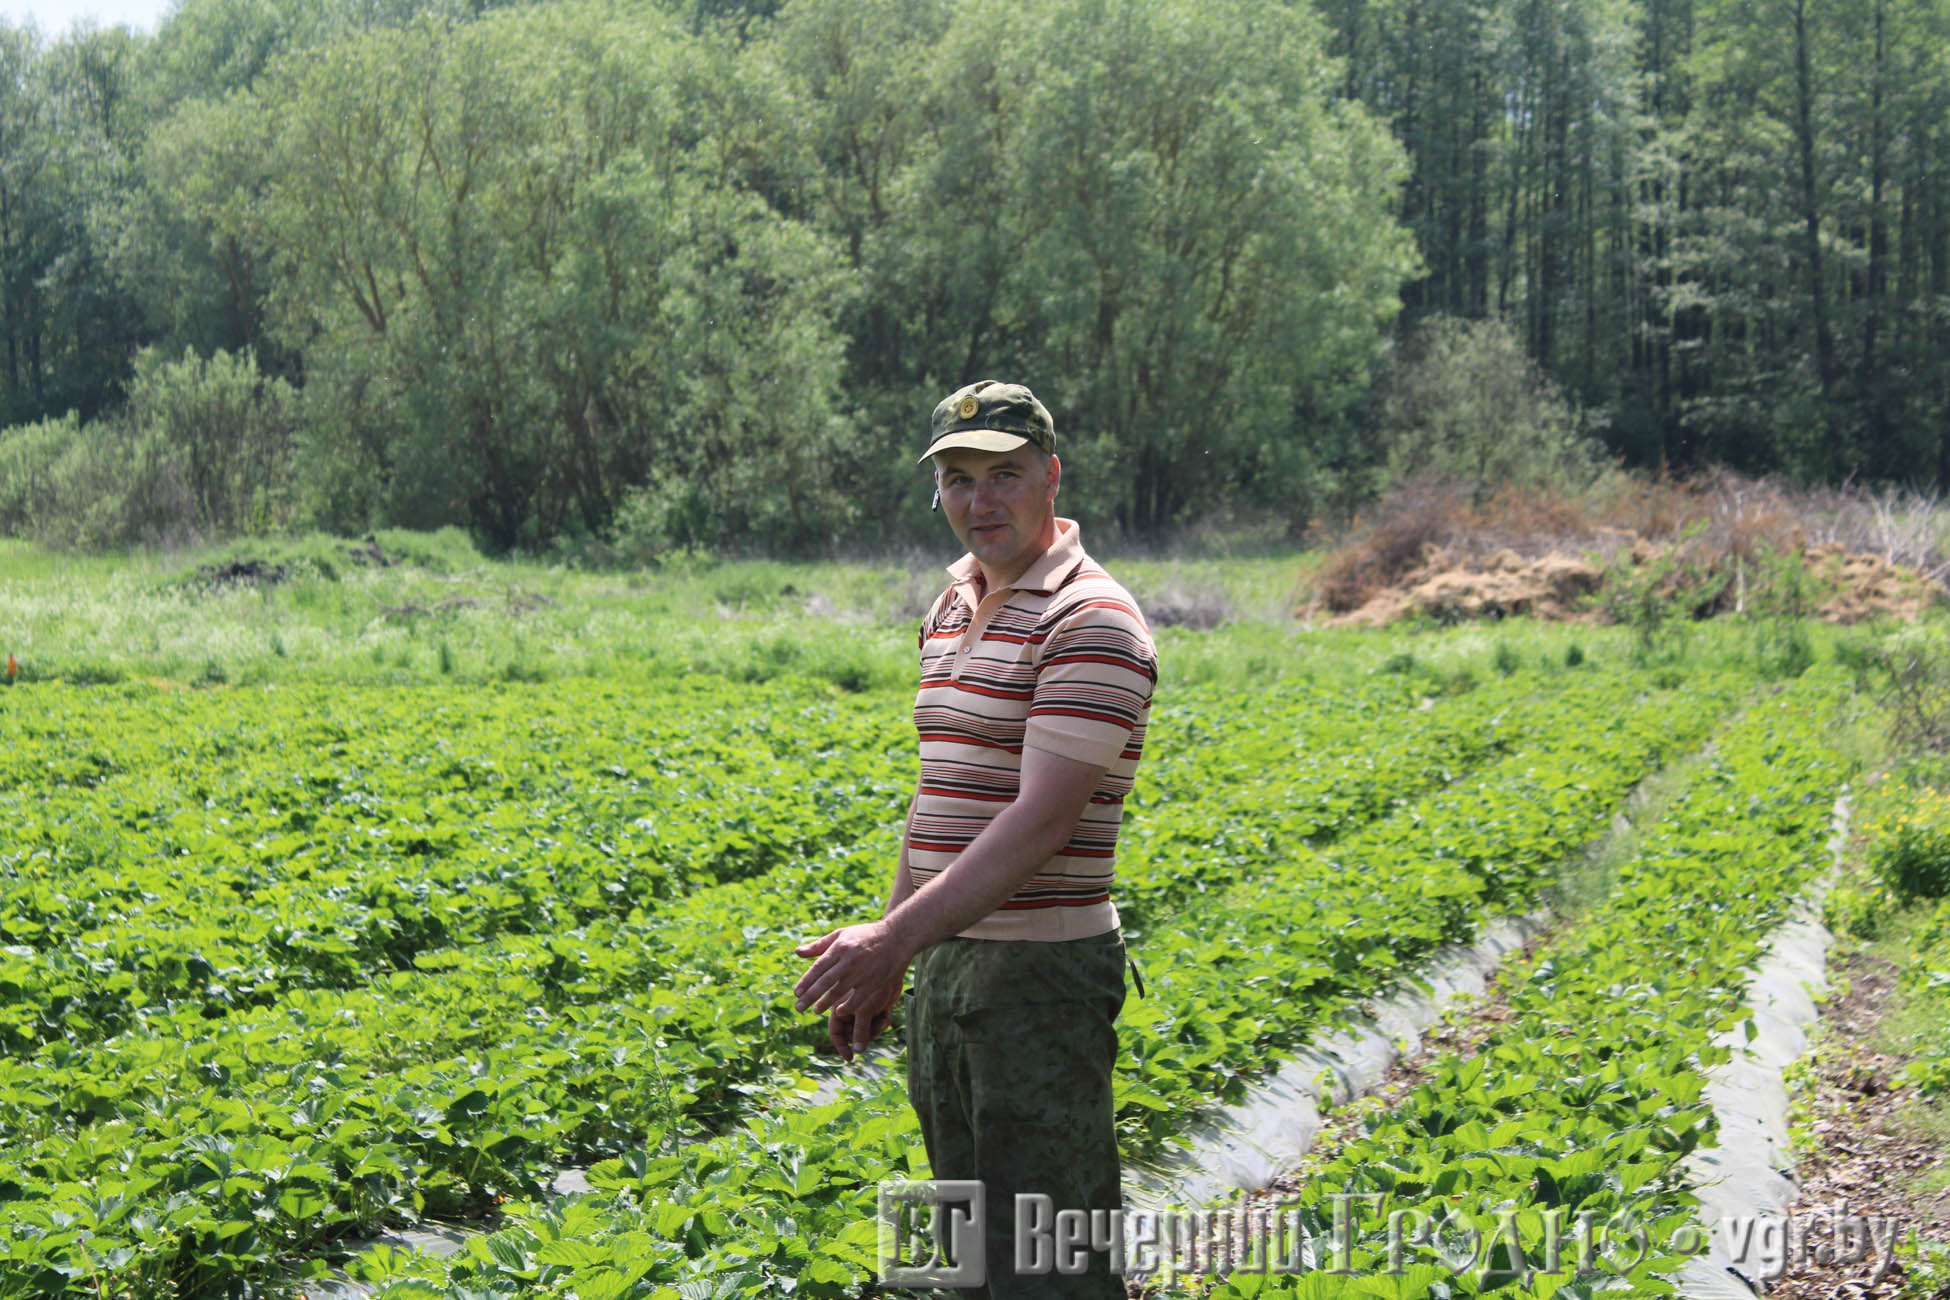person: (819, 375, 1200, 1261)
